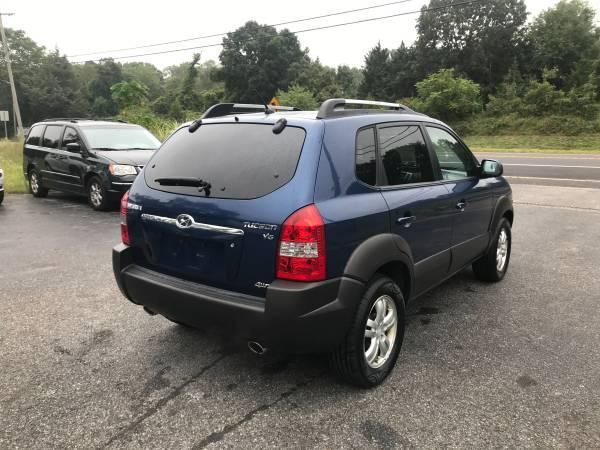Front_Fender: (488, 173, 513, 217)
Front_Right_Door: (441, 175, 497, 277)
Front_Right_Window: (419, 124, 485, 187)
Left_Taillight: (120, 191, 131, 240)
Rear_Bumper: (111, 235, 365, 342)
Rear_Fender: (307, 120, 391, 274)
Rear_Right_Door: (376, 183, 452, 297)
Rear_Right_Window: (373, 122, 436, 193)
Rear_Windshield: (150, 115, 312, 192)
Right_Taillight: (270, 201, 320, 280)
Roof: (182, 101, 455, 171)
Tailgate: (131, 159, 318, 284)
Wheel: (348, 277, 409, 383), (469, 215, 513, 282)
